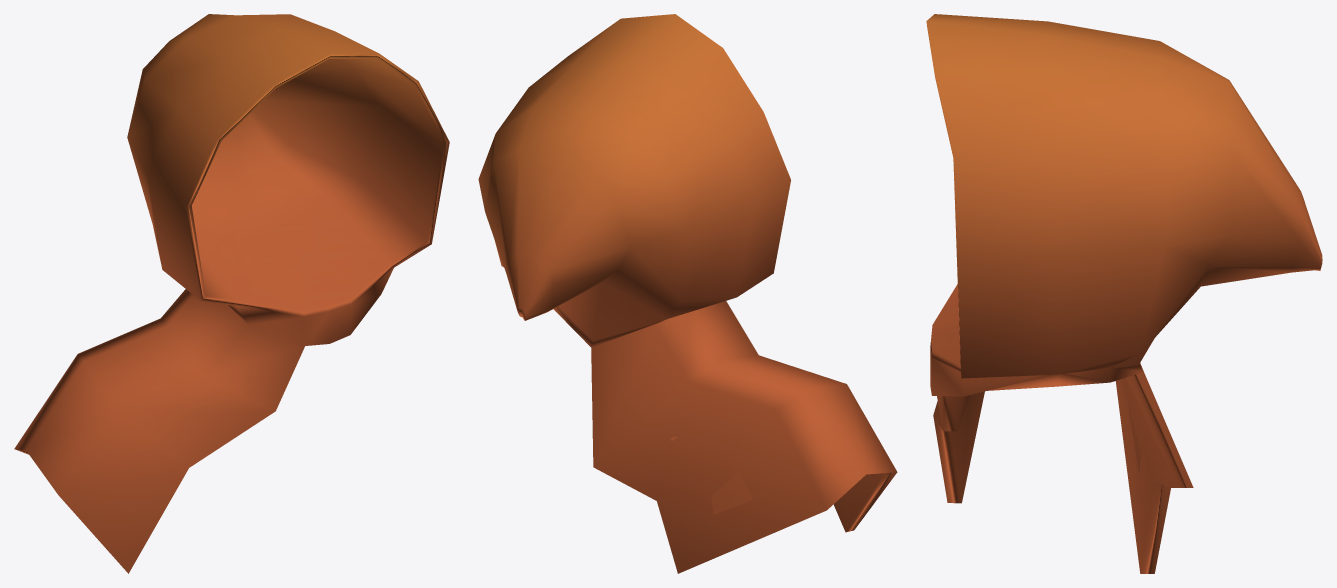
Rendered from Head02.fbx.
3 renders of one model, left to right at view 1: azimuth 30°, elevation 25°; view 2: azimuth 150°, elevation 25°; view 3: azimuth 270°, elevation 25°, orthographic. The views are drawn at different scales.
Visible parts, largest first — view 1: Head02; view 2: Head02; view 3: Head02.
Part boxes in pixels (x1,y1,x2,y2): Head02: [14, 14, 449, 573]; Head02: [478, 14, 897, 573]; Head02: [926, 14, 1322, 573].
Bounding box in the file's own units: 52.49 × 63.94 × 37.62.
Materials: 1 (1 with a texture image).
